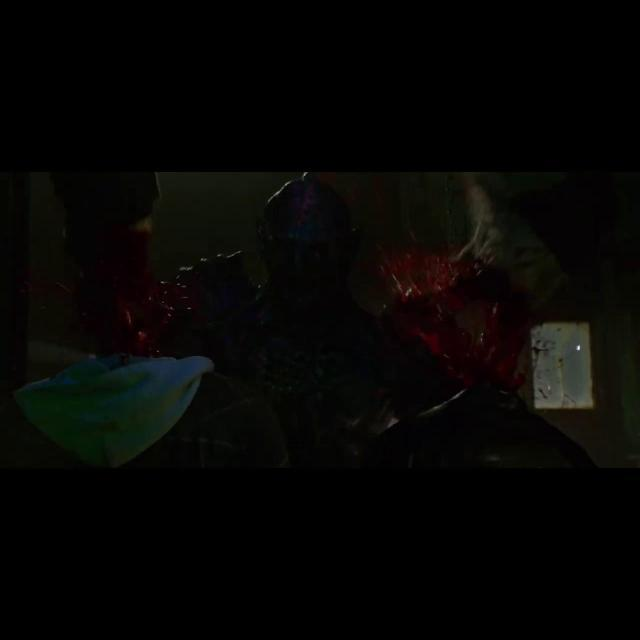blood: (380, 244, 550, 390), (536, 388, 550, 400), (557, 356, 564, 370)
